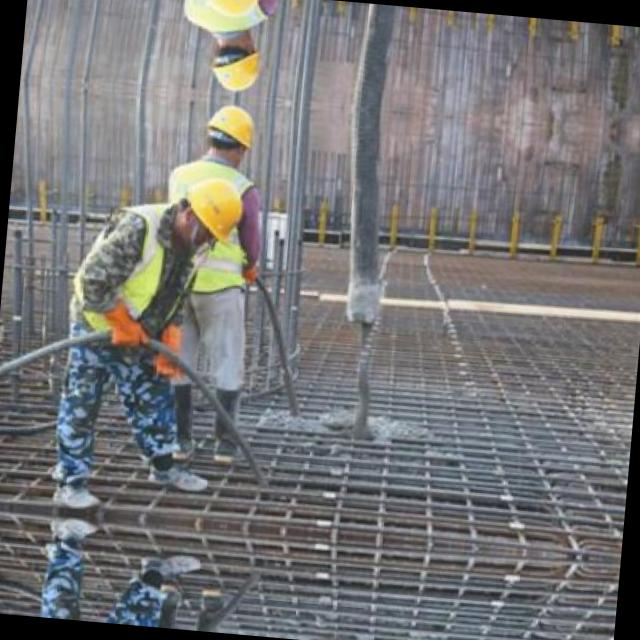helmet: (153, 154, 260, 261), (200, 100, 262, 170), (206, 27, 268, 96), (172, 0, 275, 39)
